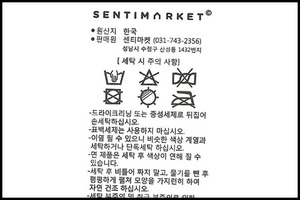KR_no_iron: (169, 90, 197, 109)
KR_no_tumble_dry: (101, 88, 125, 106)
KR_no_wring: (171, 68, 197, 88)
